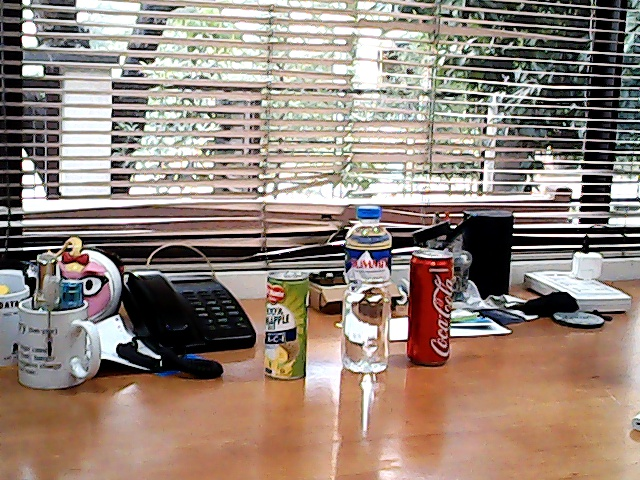Cola: (400, 241, 460, 377)
Pine Juice: (253, 260, 318, 391)
Summit Water: (335, 191, 403, 383)
